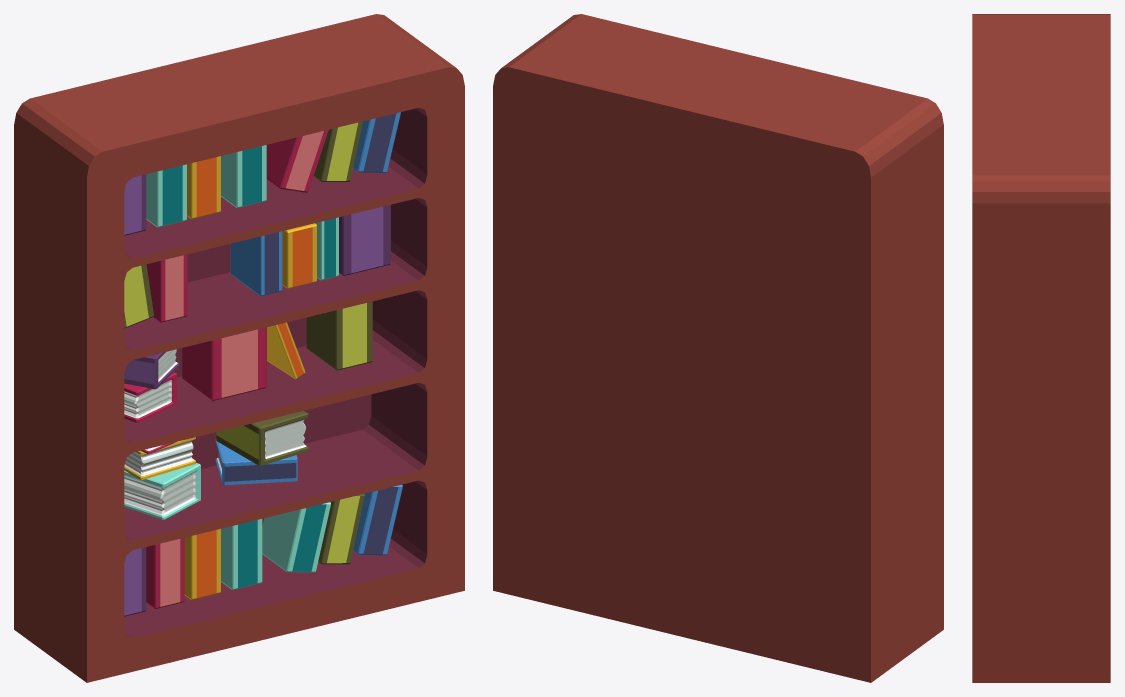
The model's file is G477Proj2Bookshelf1fbx.fbx.
3 views of the same model, side by side, from view 1: azimuth 30°, elevation 25°; view 2: azimuth 150°, elevation 25°; view 3: azimuth 270°, elevation 25° (orthographic). The views are drawn at different scales.
Visible parts, largest first — view 1: Bookshelf1; view 2: Bookshelf1; view 3: Bookshelf1.
Part boxes in pixels (box(x1,y1,x2,y2)): Bookshelf1: box(14, 14, 464, 682); Bookshelf1: box(493, 14, 943, 682); Bookshelf1: box(972, 14, 1110, 682).
Size of the model in its own units: 150 by 200 by 50.
